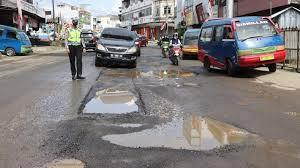Pothole: (93, 111, 271, 154), (95, 64, 223, 90), (83, 82, 148, 122), (36, 154, 100, 168)
